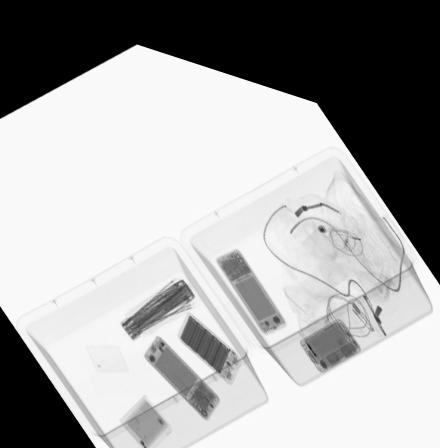Powerbank: (179, 299, 240, 368)
